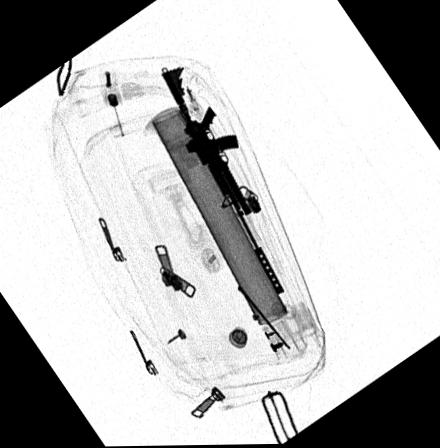Gun: (159, 66, 286, 299)
